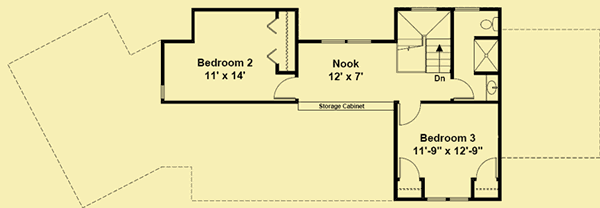door: (398, 153, 426, 182), (270, 74, 298, 102), (399, 99, 424, 126), (473, 155, 498, 181), (452, 76, 475, 99)
large_sink: (478, 14, 499, 32)
small_sink: (484, 74, 497, 103)
stairs: (421, 37, 453, 82)
window: (317, 36, 375, 45)
